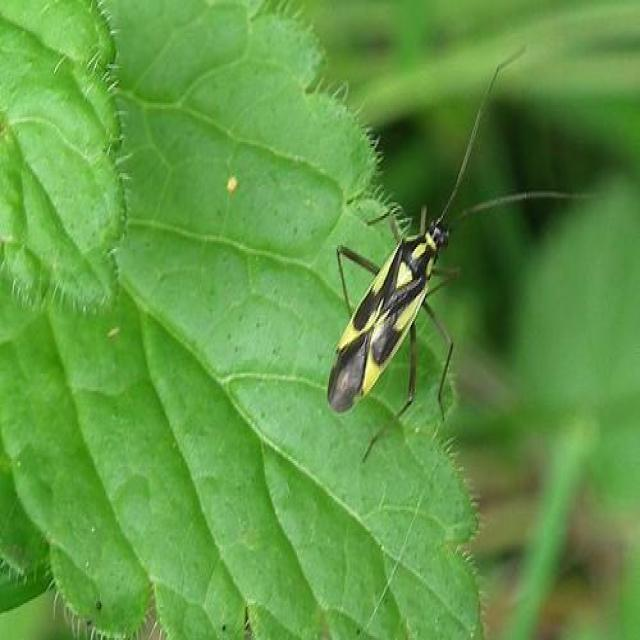Miridae-Adult-: (322, 37, 563, 446)
